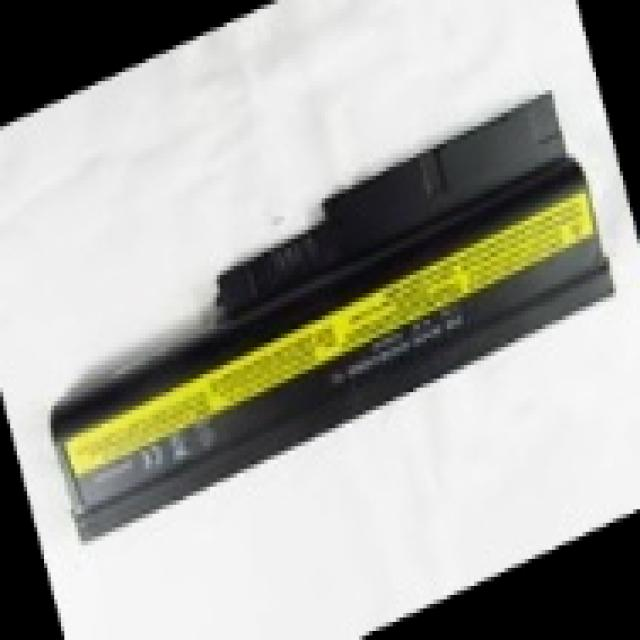elektronik: (39, 80, 591, 542)
